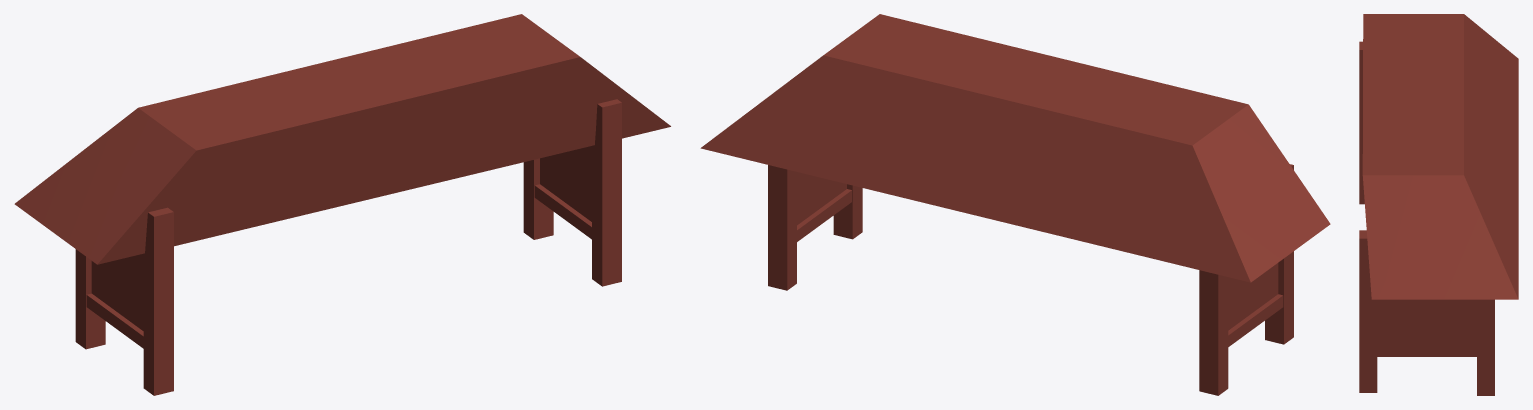
The model's file is canopy_3.fbx.
3 views of the same model, side by side, from view 1: azimuth 30°, elevation 25°; view 2: azimuth 150°, elevation 25°; view 3: azimuth 270°, elevation 25° (orthographic). The views are drawn at different scales.
Visible parts, largest first — view 1: canopy_3; view 2: canopy_3; view 3: canopy_3.
Part boxes in pixels (box(x1,y1,x2,y2)): canopy_3: box(14, 14, 670, 395); canopy_3: box(700, 14, 1330, 395); canopy_3: box(1359, 14, 1518, 395).
Bounding box in the file's own units: 1421 × 561 × 397.
